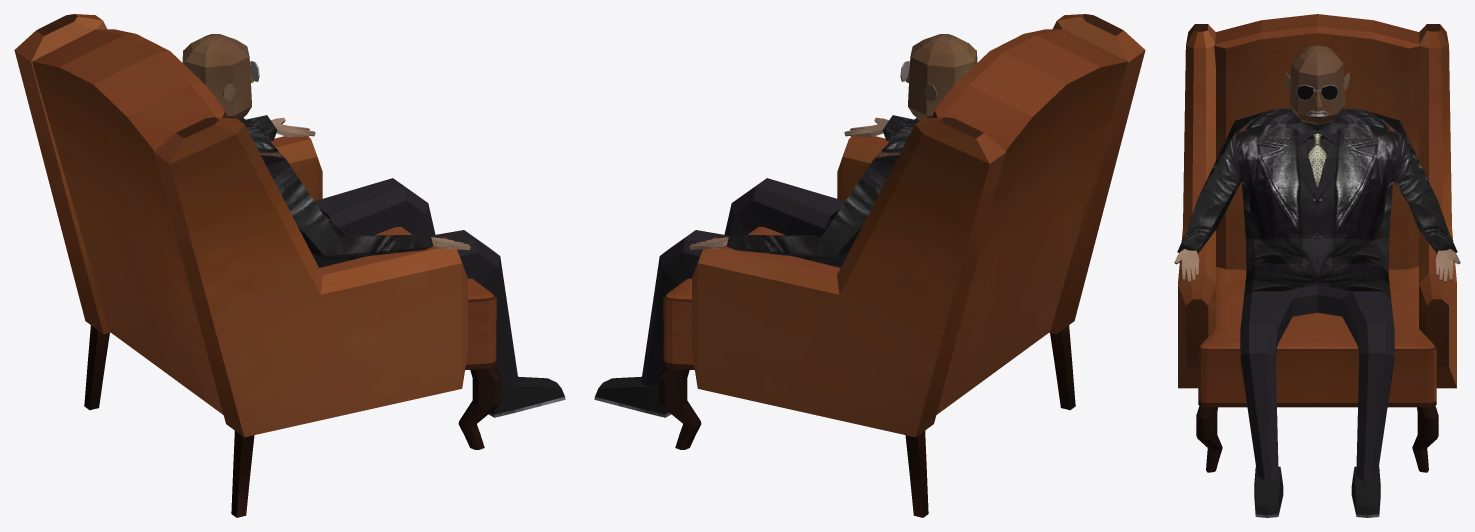
The model's file is Chair.fbx.
3 views of the same model, side by side, from view 1: azimuth 30°, elevation 25°; view 2: azimuth 150°, elevation 25°; view 3: azimuth 270°, elevation 25° (orthographic). The views are drawn at different scales.
Visible parts, largest first — view 1: Chair; view 2: Chair; view 3: Chair.
Boxes of the visible parts, left/top/right/bottom form: Chair: left=14, top=14, right=565, bottom=517; Chair: left=594, top=14, right=1145, bottom=517; Chair: left=1174, top=14, right=1460, bottom=517.
Bounding box in the file's own units: 201 × 180 × 137.
